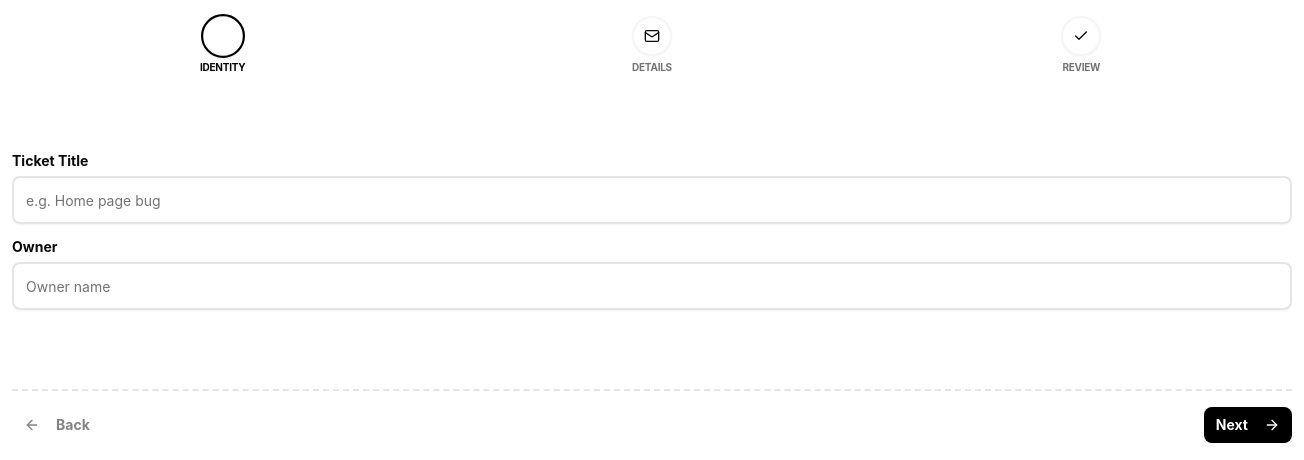
Test: TicketForm.vue › moves to step 2 when clicking next
Click the button "Next" at (1248, 425), box x1=1204 y1=407 x2=1292 y2=443
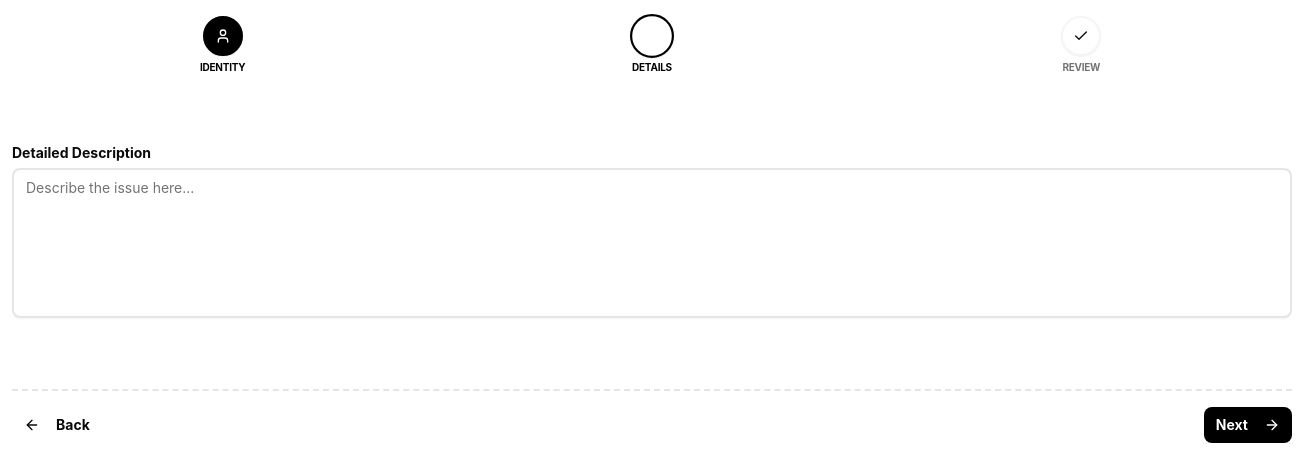
Now the text "Detailed Description" is shown, box x1=12 y1=144 x2=151 y2=161
